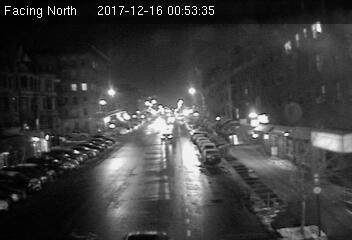car: (201, 148, 222, 164), (159, 131, 174, 142)
